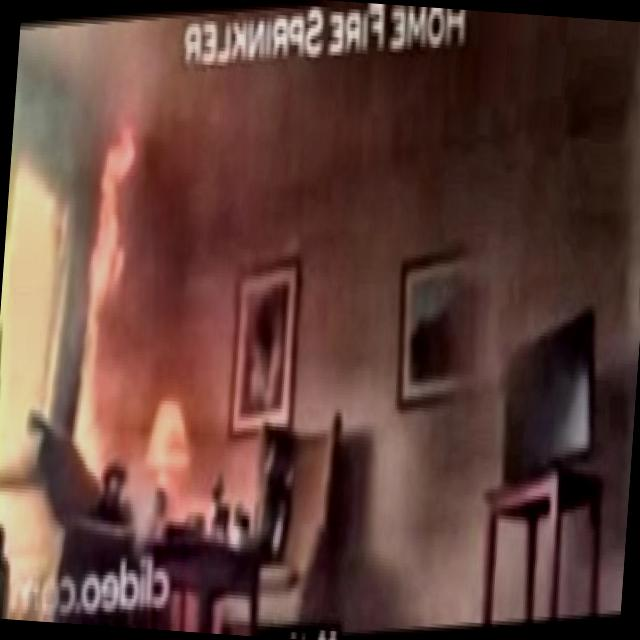fire: (43, 93, 179, 500)
